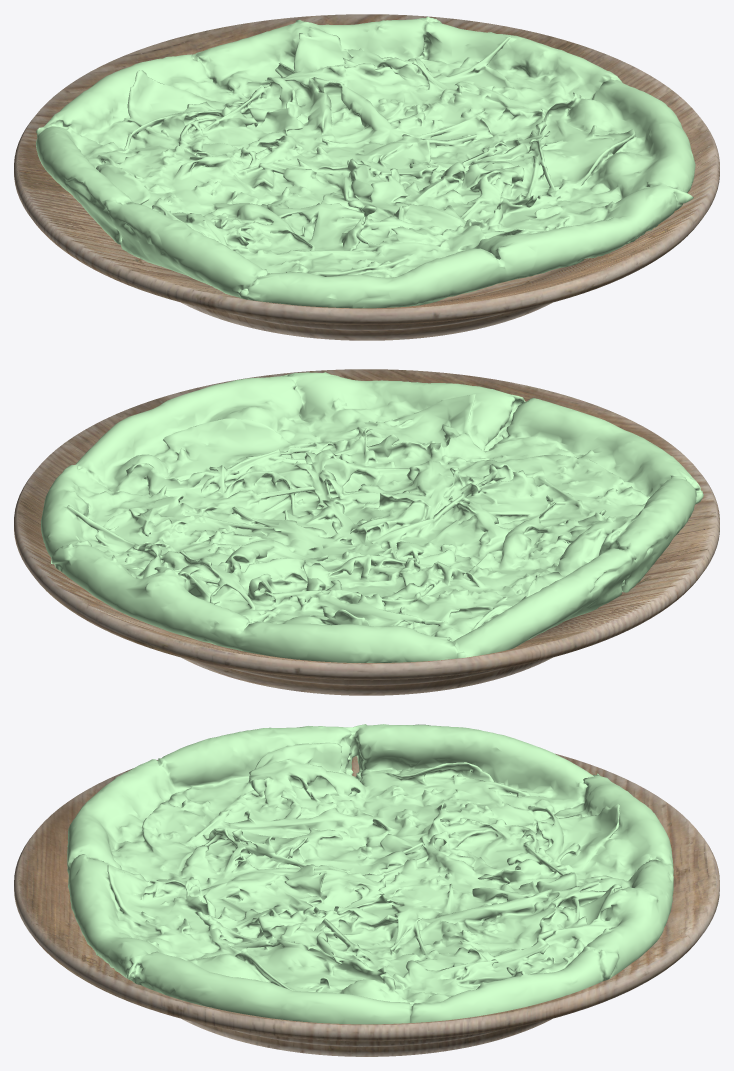
Rendered from Pizza.fbx.
3 renders of one model, top to bottom at view 1: azimuth 30°, elevation 25°; view 2: azimuth 150°, elevation 25°; view 3: azimuth 270°, elevation 25°, orthographic.
Visible parts, largest first — view 1: pizza, Tarelka001; view 2: pizza, Tarelka001; view 3: pizza, Tarelka001.
Part boxes in pixels (<box>): pizza: <box>36,16,695,308</box>; Tarelka001: <box>14,14,719,340</box>; pizza: <box>41,372,703,662</box>; Tarelka001: <box>14,369,719,695</box>; pizza: <box>67,724,673,1024</box>; Tarelka001: <box>14,753,719,1056</box>.
Bounding box in the file's own units: 123 × 21.04 × 123.
